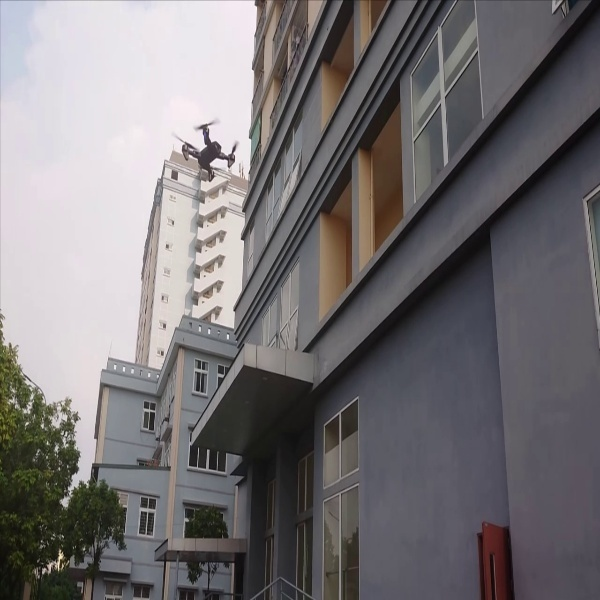drone: (171, 114, 246, 183)
